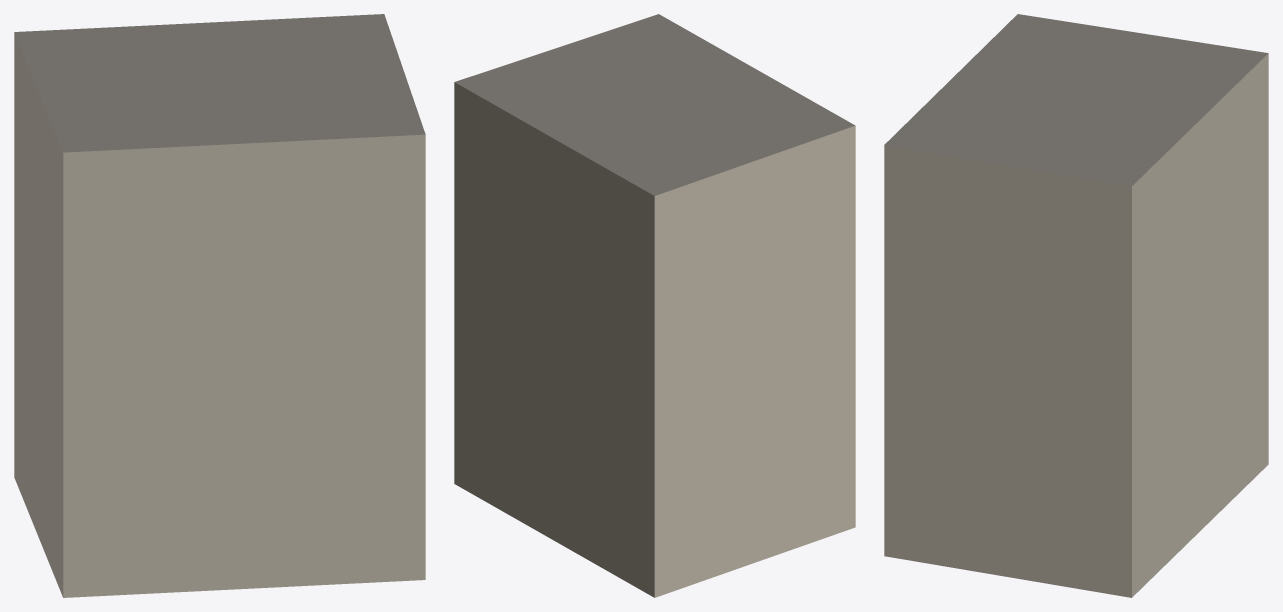
The picture shows the model from 3 angles, left to right: view 1: azimuth 30°, elevation 25°; view 2: azimuth 150°, elevation 25°; view 3: azimuth 270°, elevation 25°; orthographic projection. The views are drawn at different scales.
Visible parts, largest first — view 1: HP-w505636163; view 2: HP-w505636163; view 3: HP-w505636163.
Part boxes in pixels (<box>): HP-w505636163: <box>14,14,425,597</box>; HP-w505636163: <box>454,14,855,597</box>; HP-w505636163: <box>884,14,1268,597</box>.
Bounding box in the file's own units: 10.8 × 12 × 10.16.
